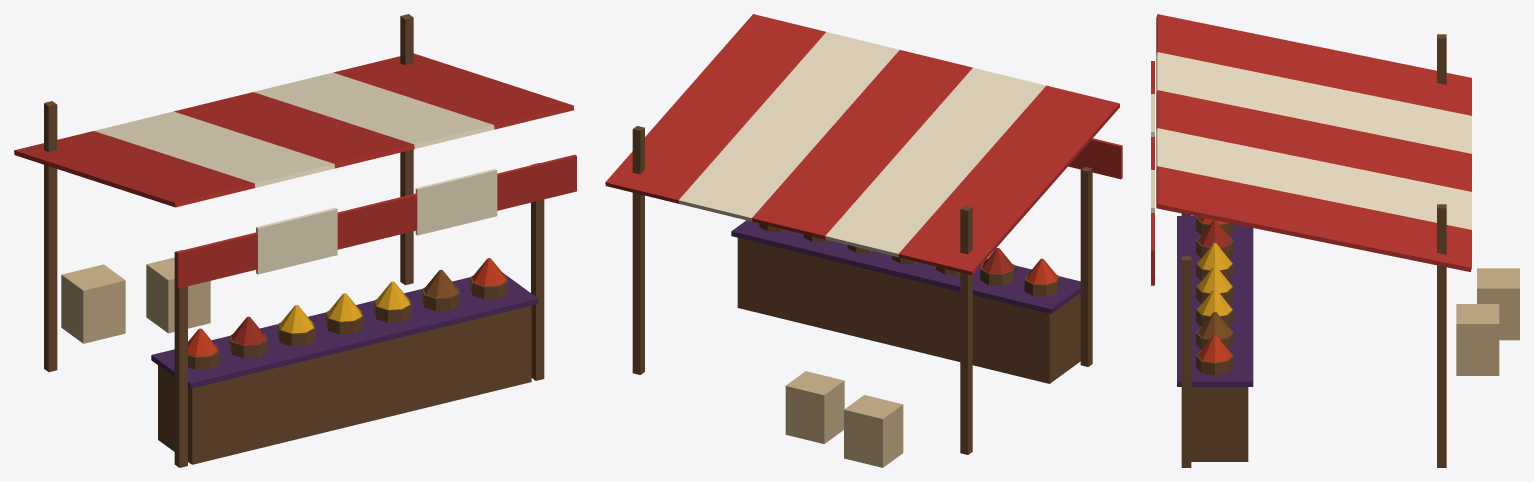
Rendered from stall_spice.glb.
3 renders of one model, left to right at view 1: azimuth 30°, elevation 25°; view 2: azimuth 150°, elevation 25°; view 3: azimuth 270°, elevation 25°, orthographic. The views are drawn at different scales.
Parts seen in each view (by area): view 1: Stall; view 2: Stall; view 3: Stall.
Part boxes in pixels (<box>): Stall: <box>14,14,576,467</box>; Stall: <box>605,14,1122,467</box>; Stall: <box>1151,14,1519,467</box>.
Bounding box in the file's own units: 4.71 × 3.14 × 3.86.
